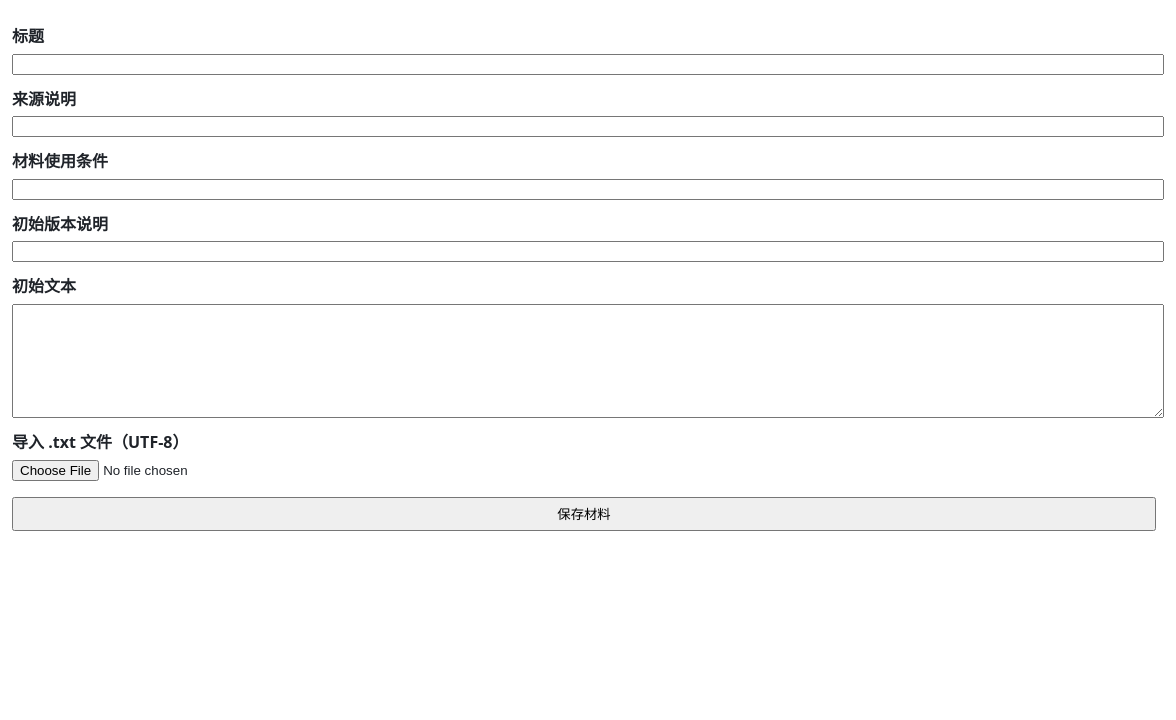
Test: source form › blocks submission when required fields are missing
Click the button "保存材料". click: click(584, 514)
box: [12,497,1156,531]
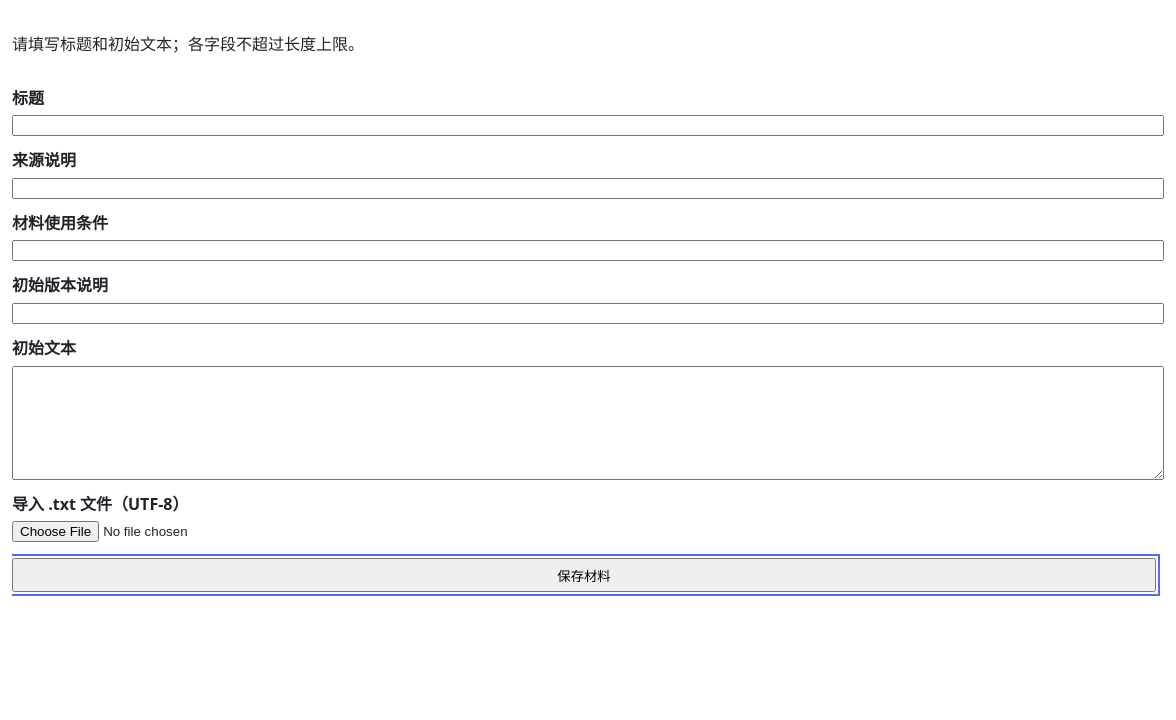
Expected: the message with test id "source-feedback" shows "请填写标题和初始文本", [12,33,364,55]
